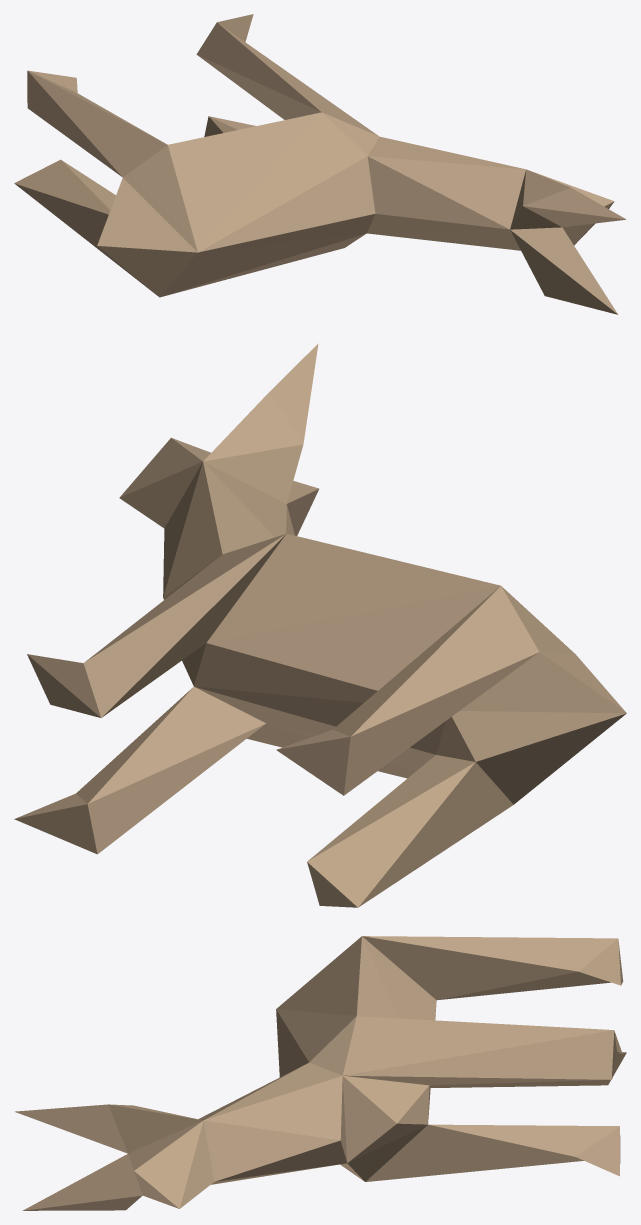
3 views of the same model, one above another, from view 1: azimuth 30°, elevation 25°; view 2: azimuth 150°, elevation 25°; view 3: azimuth 270°, elevation 25° (orthographic). The views are drawn at different scales.
Visible parts, largest first — view 1: part0; view 2: part0; view 3: part0.
Boxes of the visible parts, box(x1,y1,x2,y2) form: part0: box(14, 14, 626, 314); part0: box(14, 343, 626, 907); part0: box(15, 936, 626, 1210).
Size of the model in its own units: 2.98 by 0.9936 by 3.51.
